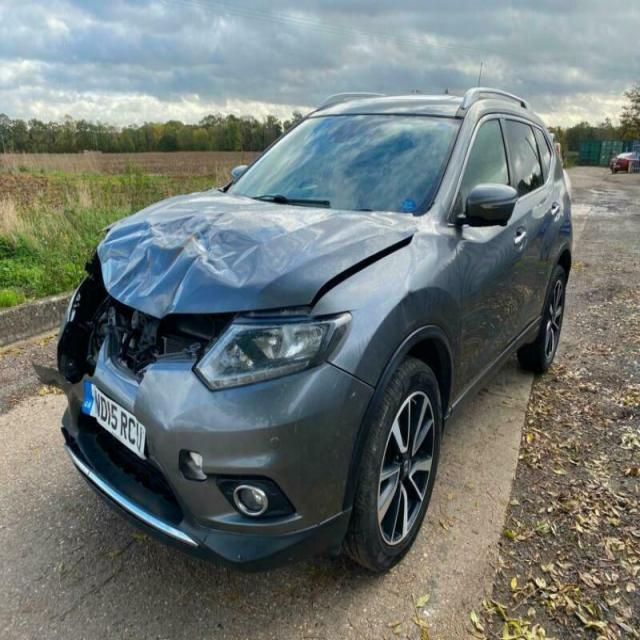damaged: (63, 212, 201, 398), (194, 204, 261, 308)
